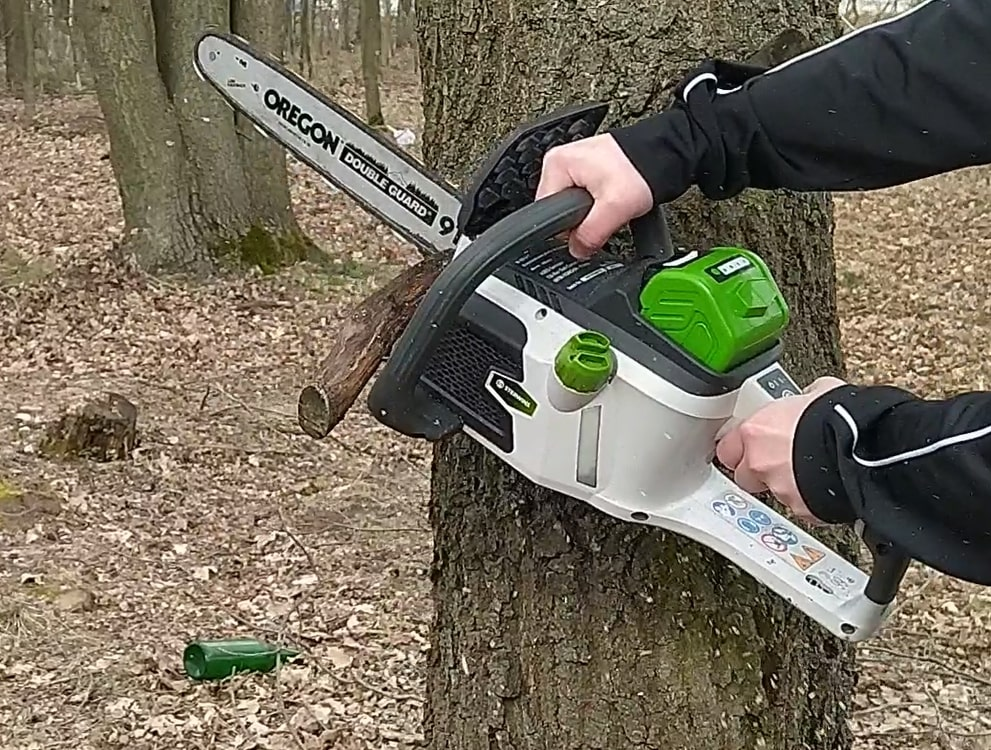chainsaw: (174, 23, 938, 667)
